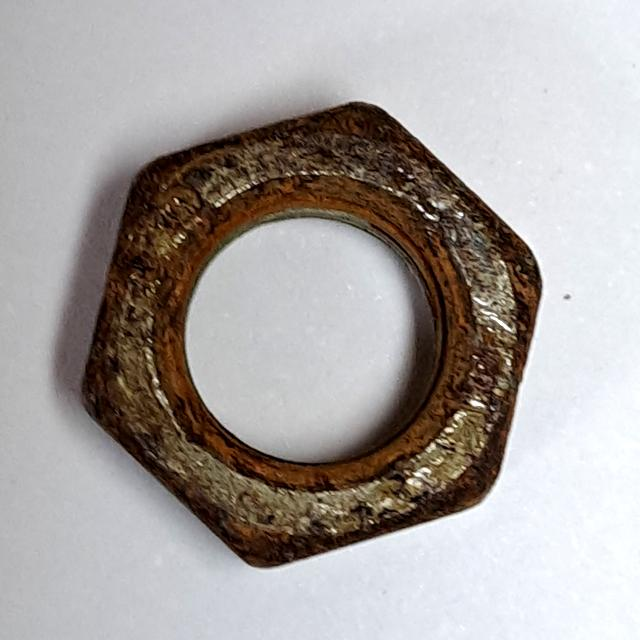Rust: (62, 87, 553, 583)
